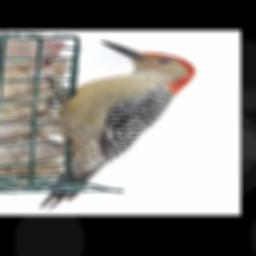Woodpecker: (38, 38, 195, 211)
